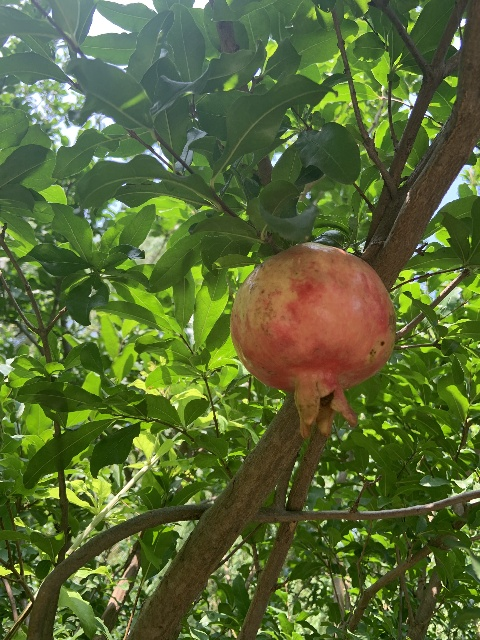ripe: (230, 243, 396, 439)
